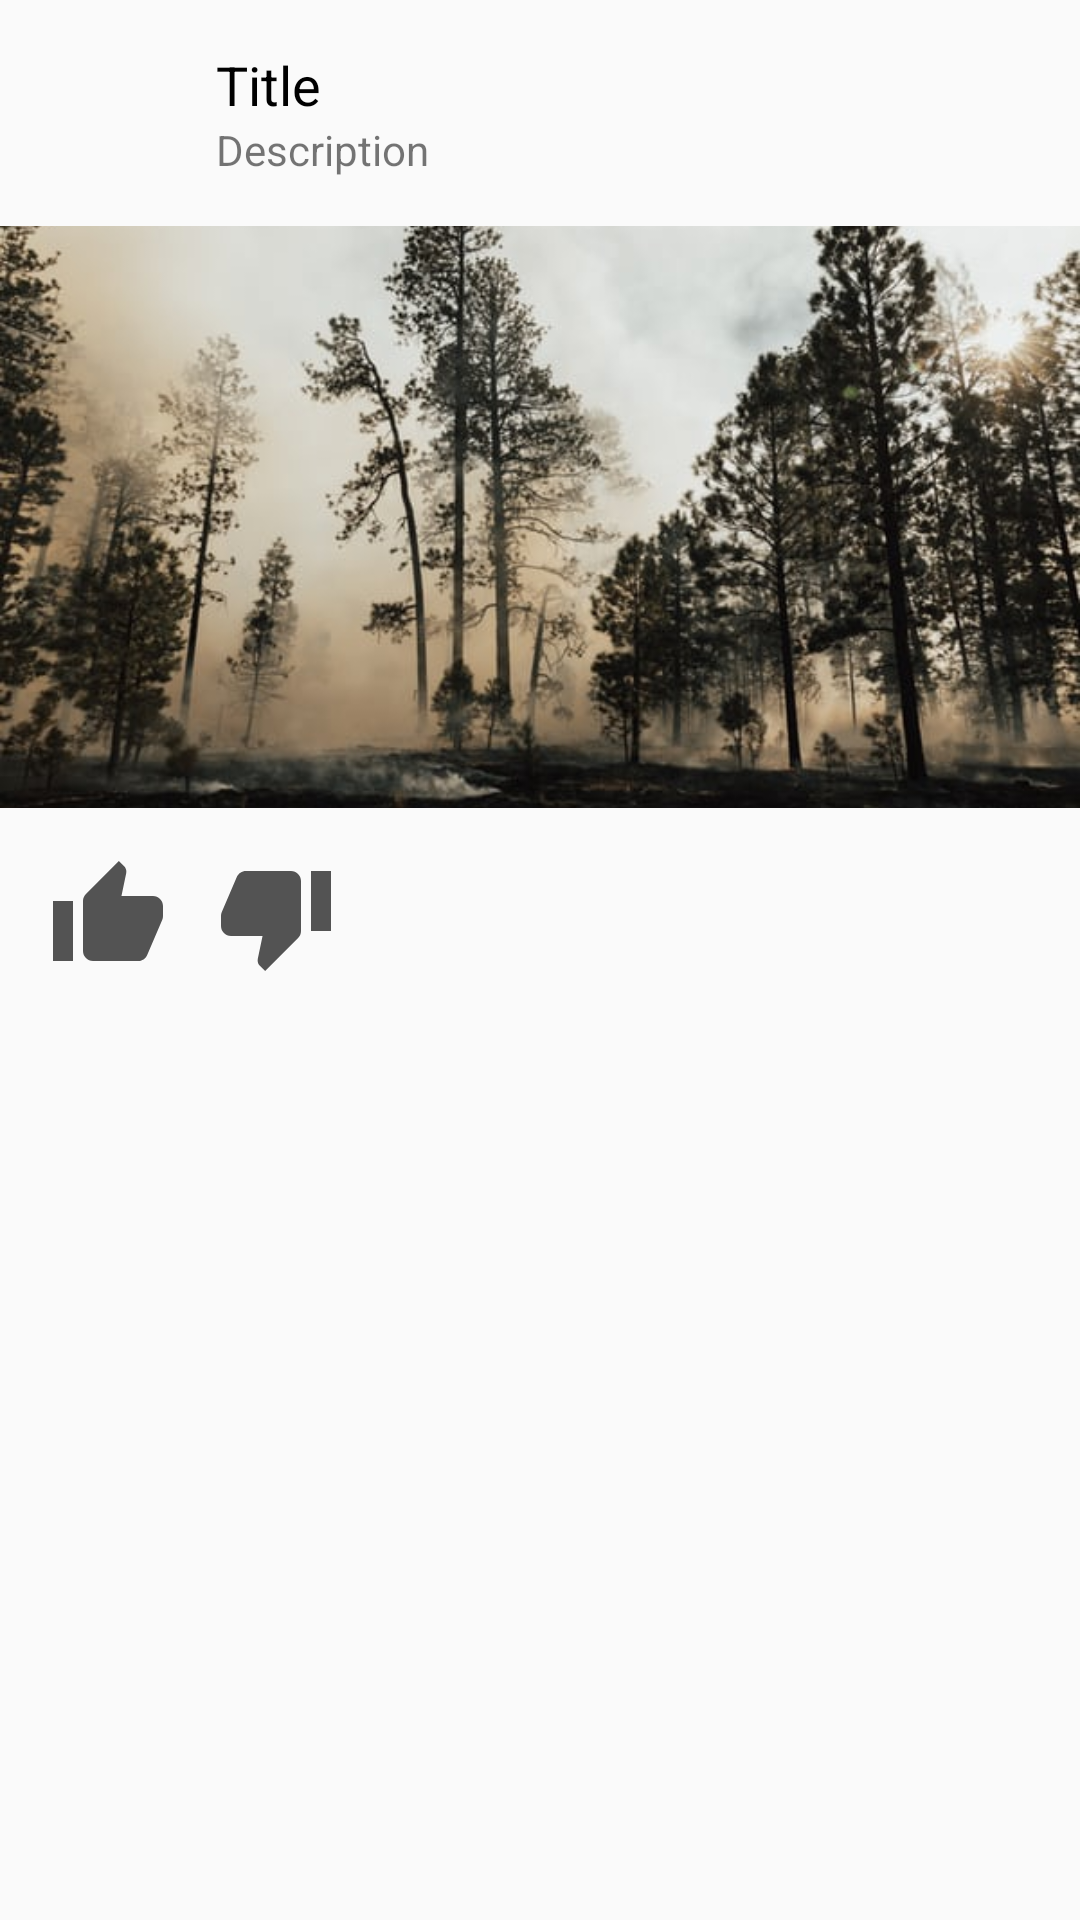

Where to tap for icons on this 1080x1920 app screen, as point (x, y):
dislike: point (276, 921)
like: point (108, 911)
